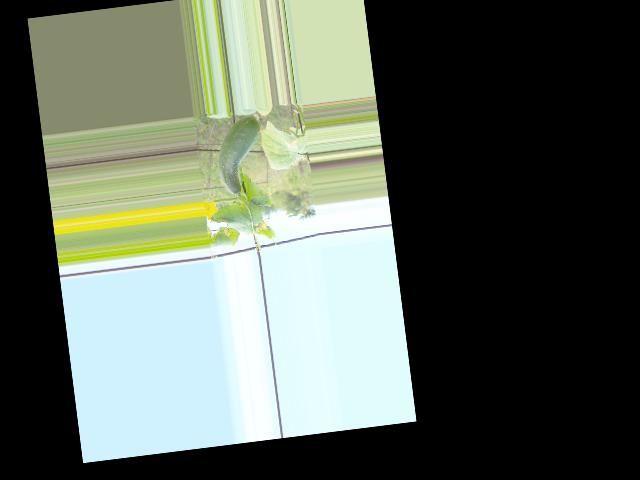cucumber: (212, 115, 268, 197)
